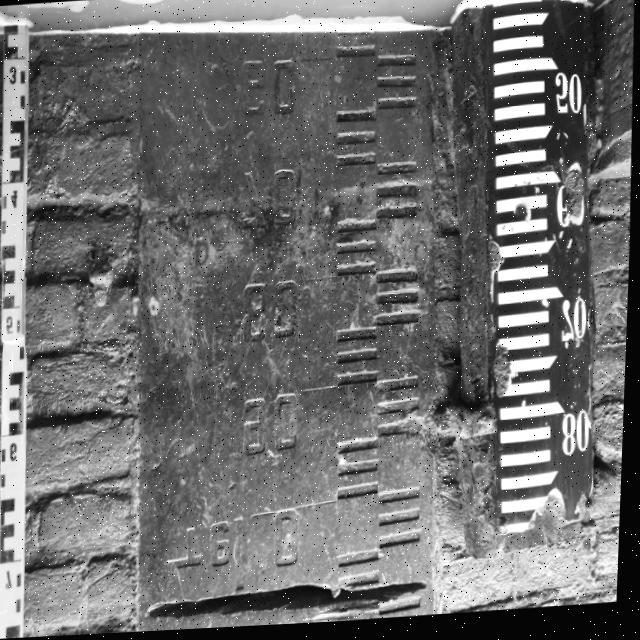water-meter: (468, 0, 616, 540), (0, 9, 51, 640)
